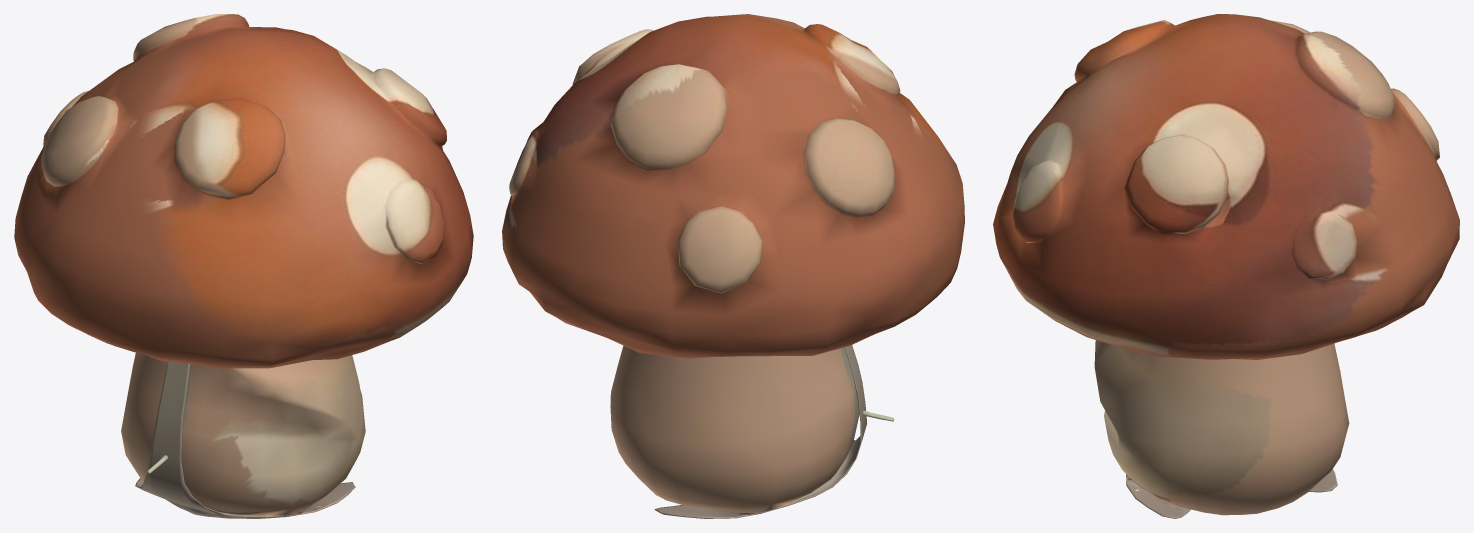
The model's file is champi-petit-jeu-JL2GQK3N.glb.
3 views of the same model, side by side, from view 1: azimuth 30°, elevation 25°; view 2: azimuth 150°, elevation 25°; view 3: azimuth 270°, elevation 25° (orthographic).
Visible parts, largest first — view 1: champi-petit; view 2: champi-petit; view 3: champi-petit.
Part boxes in pixels (left/top/right/bottom): champi-petit: left=14, top=14, right=473, bottom=518; champi-petit: left=502, top=14, right=964, bottom=518; champi-petit: left=993, top=14, right=1459, bottom=518.
Size of the model in its own units: 0.6832 by 0.75 by 0.6905.
1 material, 1 textured.
